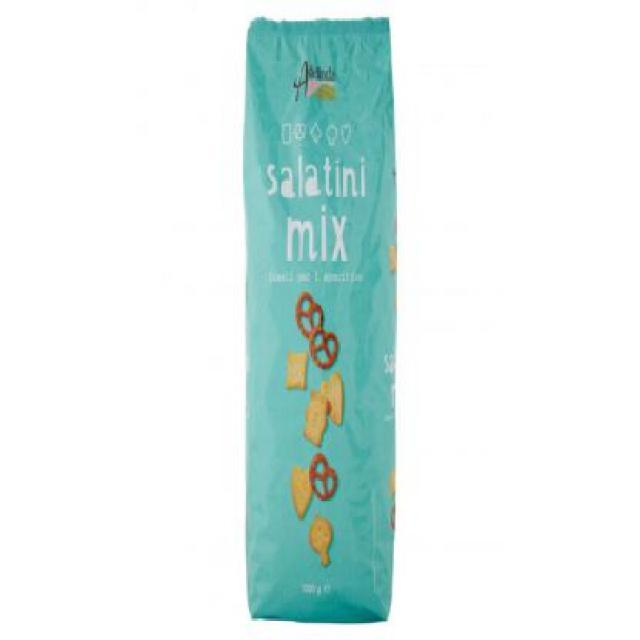Salatini: (239, 13, 401, 630)
